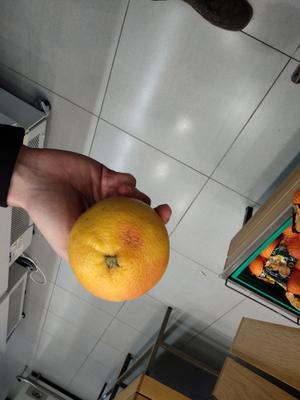orange: (0, 0, 300, 400)
